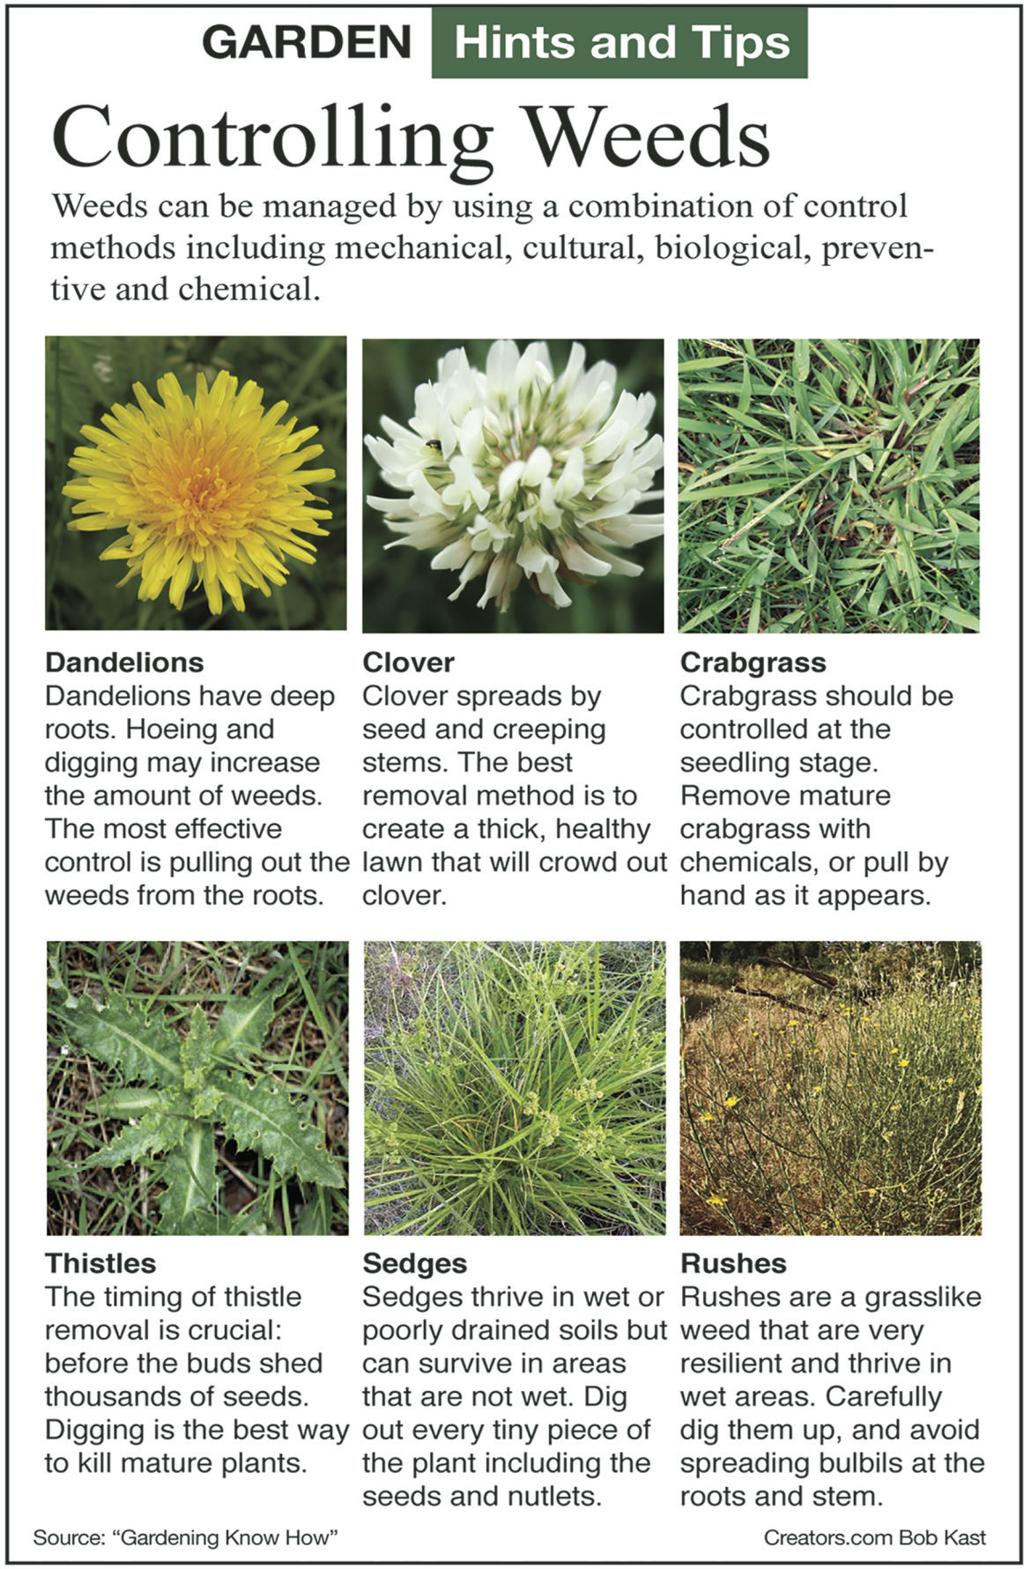crabgrass: (685, 347, 978, 598)
